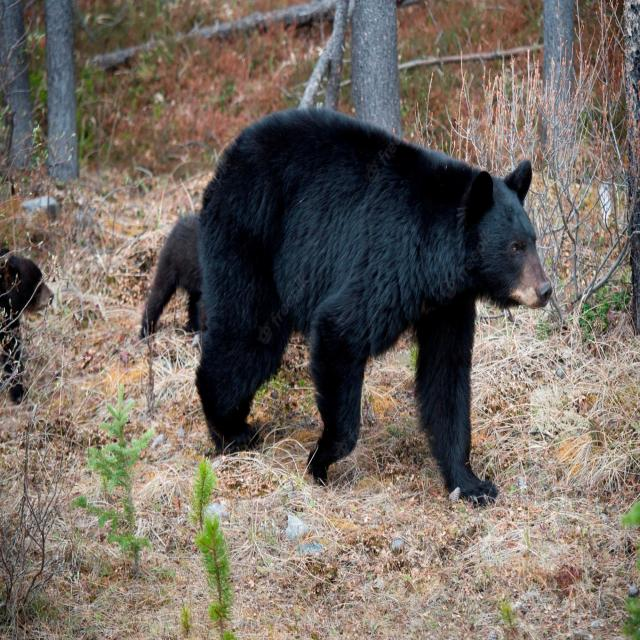Bear: (193, 108, 553, 508), (138, 211, 204, 340), (0, 252, 52, 404)
